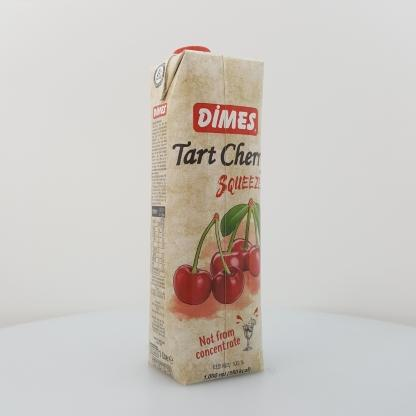DIMES--------1000ML: (148, 46, 264, 386)
